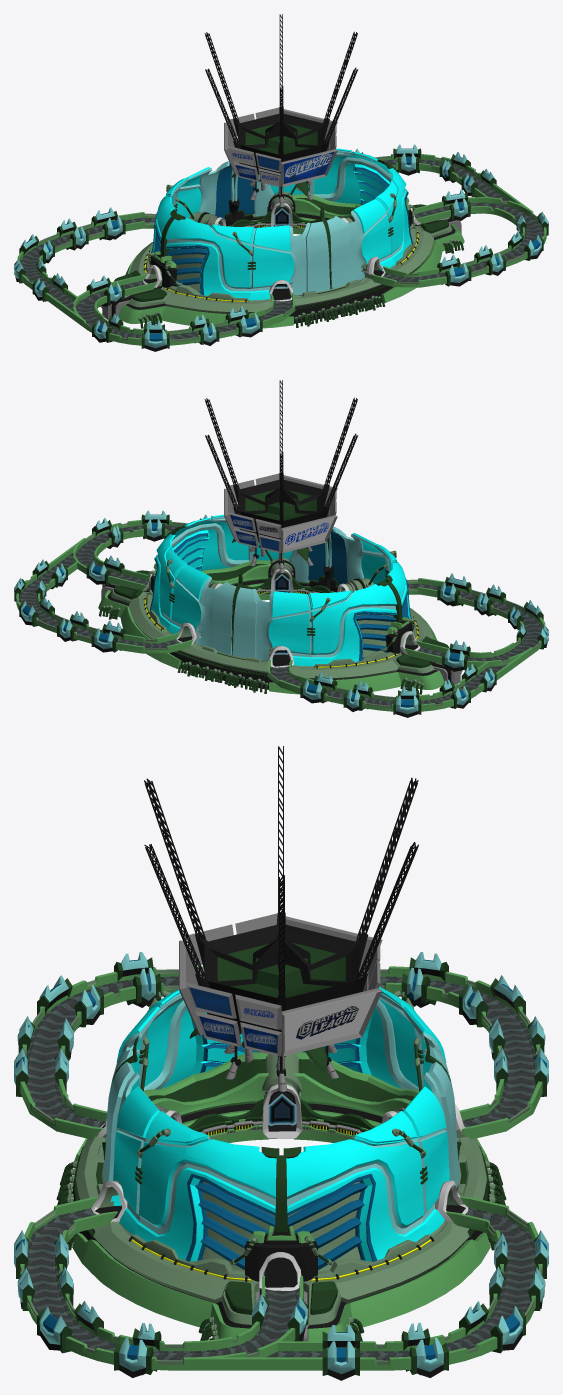
The model's file is arena_crosscollision.fbx.
3 renders of one model, top to bottom at view 1: azimuth 30°, elevation 25°; view 2: azimuth 150°, elevation 25°; view 3: azimuth 270°, elevation 25°, orthographic. The views are drawn at different scales.
Parts seen in each view (by area): view 1: Metal, Glass, Track, Screens; view 2: Metal, Glass, Track, Screens; view 3: Metal, Glass, Track, Screens, Lights.
Boxes of the visible parts, box(x1,y1,x2,y2) form: Metal: box(14, 14, 548, 351); Glass: box(14, 144, 548, 348); Track: box(20, 159, 543, 339); Screens: box(230, 148, 334, 185); Metal: box(14, 380, 548, 717); Glass: box(14, 510, 548, 714); Track: box(19, 525, 542, 705); Screens: box(230, 514, 334, 551); Metal: box(16, 746, 546, 1380); Glass: box(14, 952, 548, 1374); Track: box(26, 976, 536, 1360); Screens: box(189, 987, 376, 1053); Lights: box(131, 1124, 431, 1281).
Size of the model in its own units: 68.69 by 32.41 by 39.01.
Materials: 9 (8 with a texture image).
